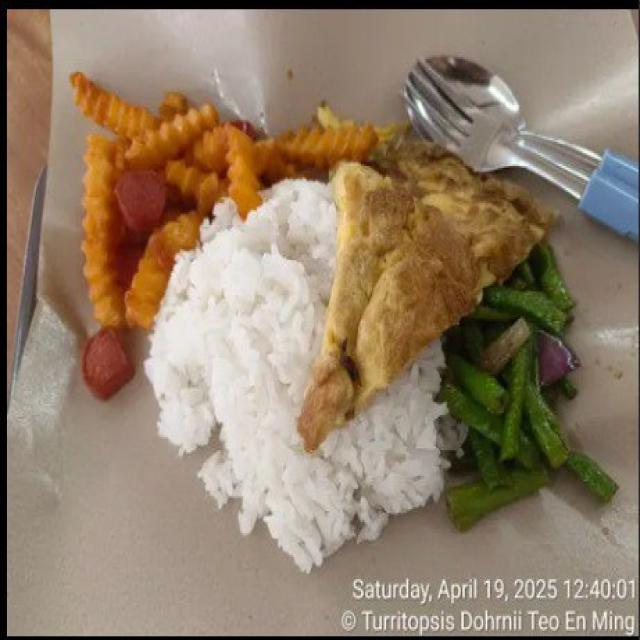Chicken: (83, 326, 133, 398), (117, 170, 164, 243)
Egg: (298, 142, 553, 450)
Green veg: (440, 243, 615, 527)
Potato: (71, 72, 393, 328)
Rice: (144, 184, 454, 572)
